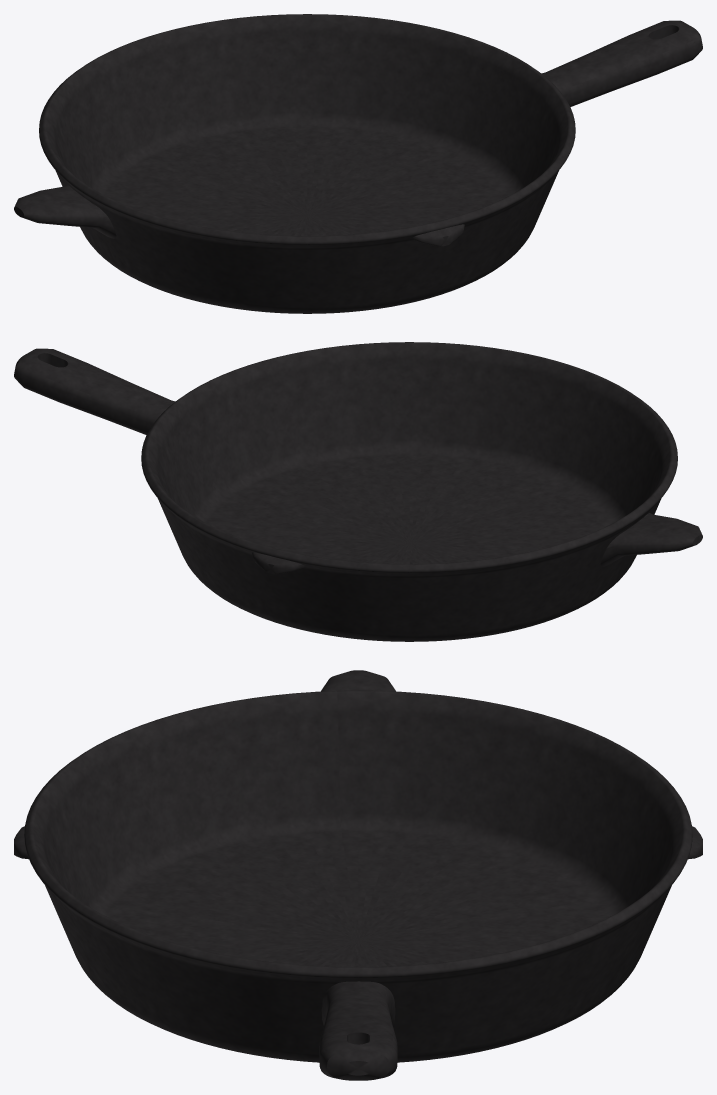
The model's file is prepared.glb.
The picture shows the model from 3 angles, top to bottom: view 1: azimuth 30°, elevation 25°; view 2: azimuth 150°, elevation 25°; view 3: azimuth 270°, elevation 25°; orthographic projection. The views are drawn at different scales.
Parts seen in each view (by area): view 1: Skillet; view 2: Skillet; view 3: Skillet.
Part boxes in pixels (bbox=[...]): Skillet: bbox=[14, 14, 702, 313]; Skillet: bbox=[14, 342, 702, 641]; Skillet: bbox=[14, 670, 702, 1080].
Bounding box in the file's own units: 0.3858 × 0.0578 × 0.273.
Materials: 1 (1 with a texture image).
